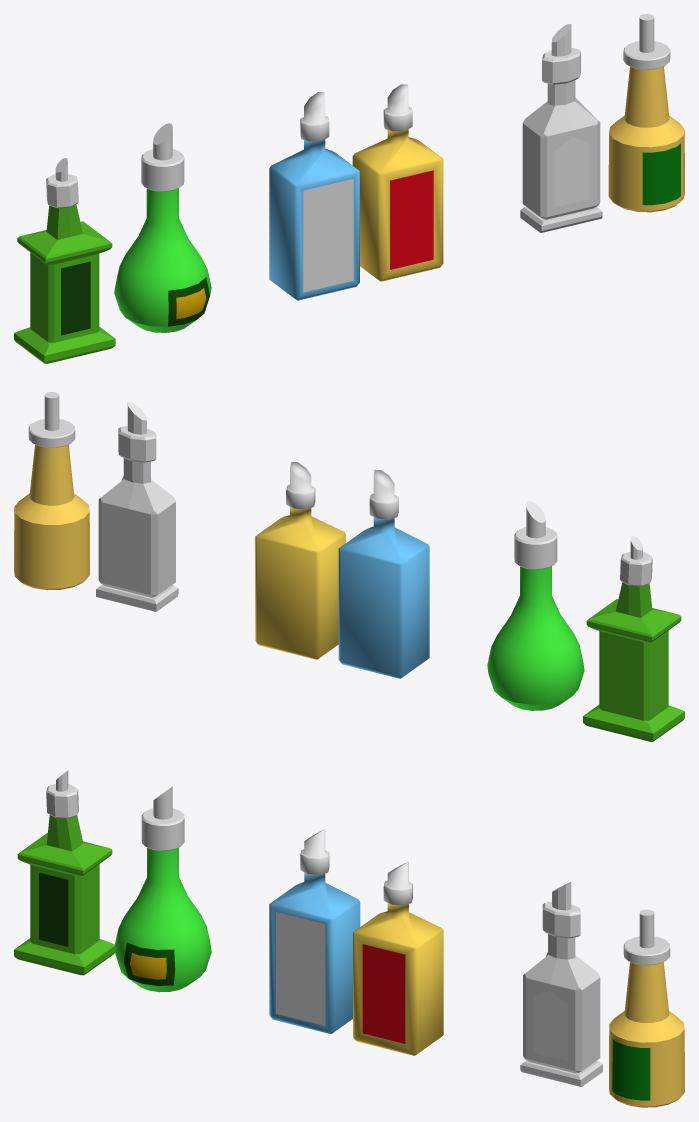
Rendered from siseler.fbx.
3 renders of one model, top to bottom at view 1: azimuth 30°, elevation 25°; view 2: azimuth 150°, elevation 25°; view 3: azimuth 330°, elevation 25°, orthographic.
Parts seen in each view (by area): view 1: Plane.047, Plane.048, Plane.045, Plane.043, Circle.087, Circle.082; view 2: Plane.047, Plane.048, Plane.045, Plane.043, Circle.087, Circle.082; view 3: Plane.047, Plane.048, Plane.045, Plane.043, Circle.087, Circle.082.
Part boxes in pixels (left/top/right/bottom): Plane.047: left=269, top=92, right=359, bottom=300; Plane.048: left=352, top=84, right=443, bottom=281; Plane.045: left=14, top=158, right=115, bottom=363; Plane.043: left=520, top=24, right=602, bottom=232; Circle.087: left=114, top=123, right=211, bottom=332; Circle.082: left=608, top=14, right=684, bottom=212; Plane.047: left=338, top=469, right=429, bottom=678; Plane.048: left=255, top=462, right=345, bottom=659; Plane.045: left=583, top=536, right=684, bottom=741; Plane.043: left=96, top=401, right=178, bottom=611; Circle.087: left=487, top=501, right=584, bottom=710; Circle.082: left=14, top=392, right=89, bottom=590; Plane.047: left=269, top=829, right=360, bottom=1033; Plane.048: left=353, top=862, right=443, bottom=1055; Plane.045: left=14, top=770, right=114, bottom=975; Plane.043: left=520, top=882, right=602, bottom=1086; Circle.087: left=114, top=786, right=211, bottom=992; Circle.082: left=609, top=909, right=684, bottom=1107.
Bounding box in the file's own units: 828 × 243 × 108.
